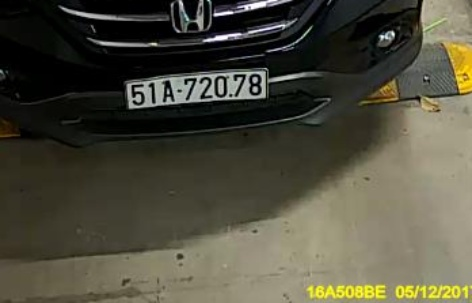plate: (118, 66, 273, 115)
